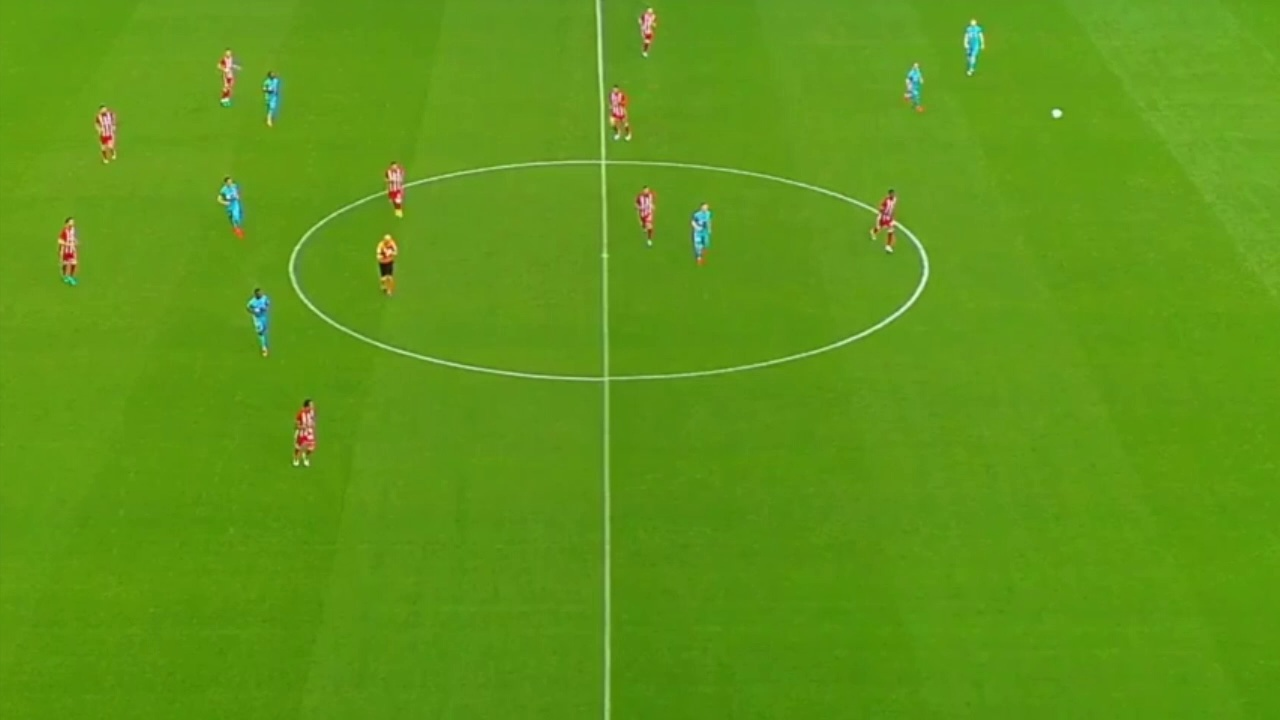ball: (1050, 108, 1064, 120)
person: (243, 280, 280, 359), (89, 105, 124, 166), (868, 188, 899, 254), (292, 394, 318, 469), (218, 173, 248, 236), (382, 156, 411, 218), (959, 12, 986, 75), (57, 218, 81, 287), (214, 47, 242, 106), (609, 84, 636, 143), (899, 61, 930, 111), (635, 184, 661, 243), (635, 4, 663, 56), (688, 204, 713, 262), (259, 68, 282, 127)
